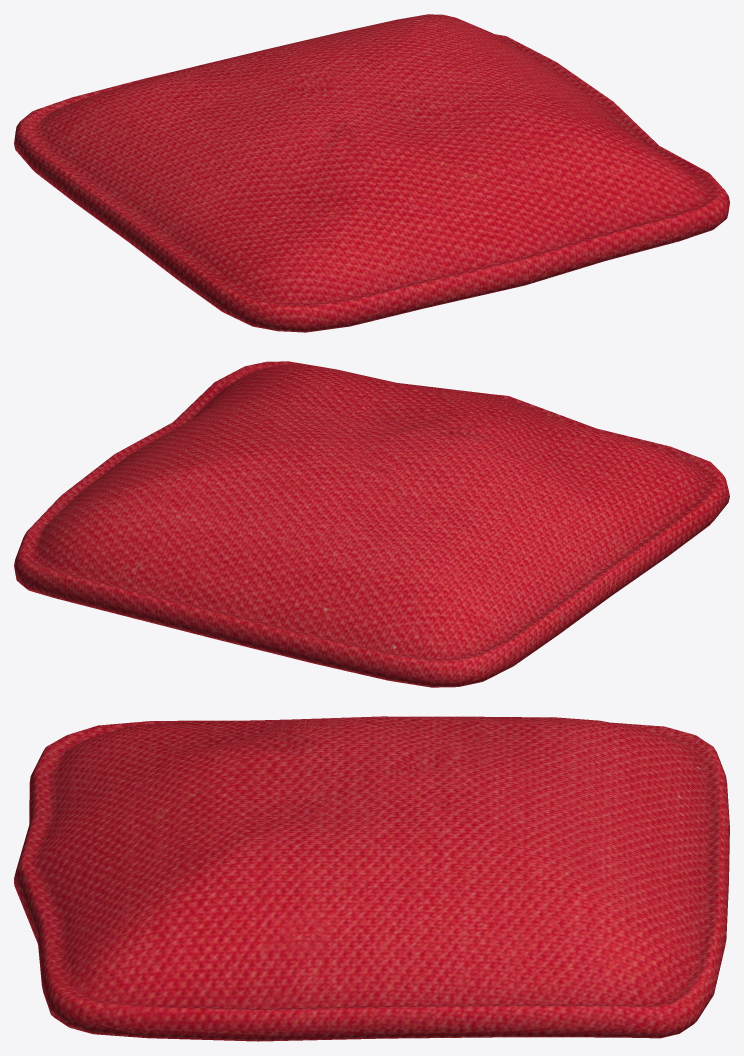
File: beanbag08red.obj
The picture shows the model from 3 angles, top to bottom: view 1: azimuth 30°, elevation 25°; view 2: azimuth 150°, elevation 25°; view 3: azimuth 270°, elevation 25°; orthographic projection. The views are drawn at different scales.
Parts seen in each view (by area): view 1: Circle; view 2: Circle; view 3: Circle.
Boxes of the visible parts, box(x1,y1,x2,y2) form: Circle: box(14, 14, 729, 332); Circle: box(14, 361, 729, 687); Circle: box(14, 716, 729, 1041).
Size of the model in its own units: 1.85 by 0.4804 by 1.9.
